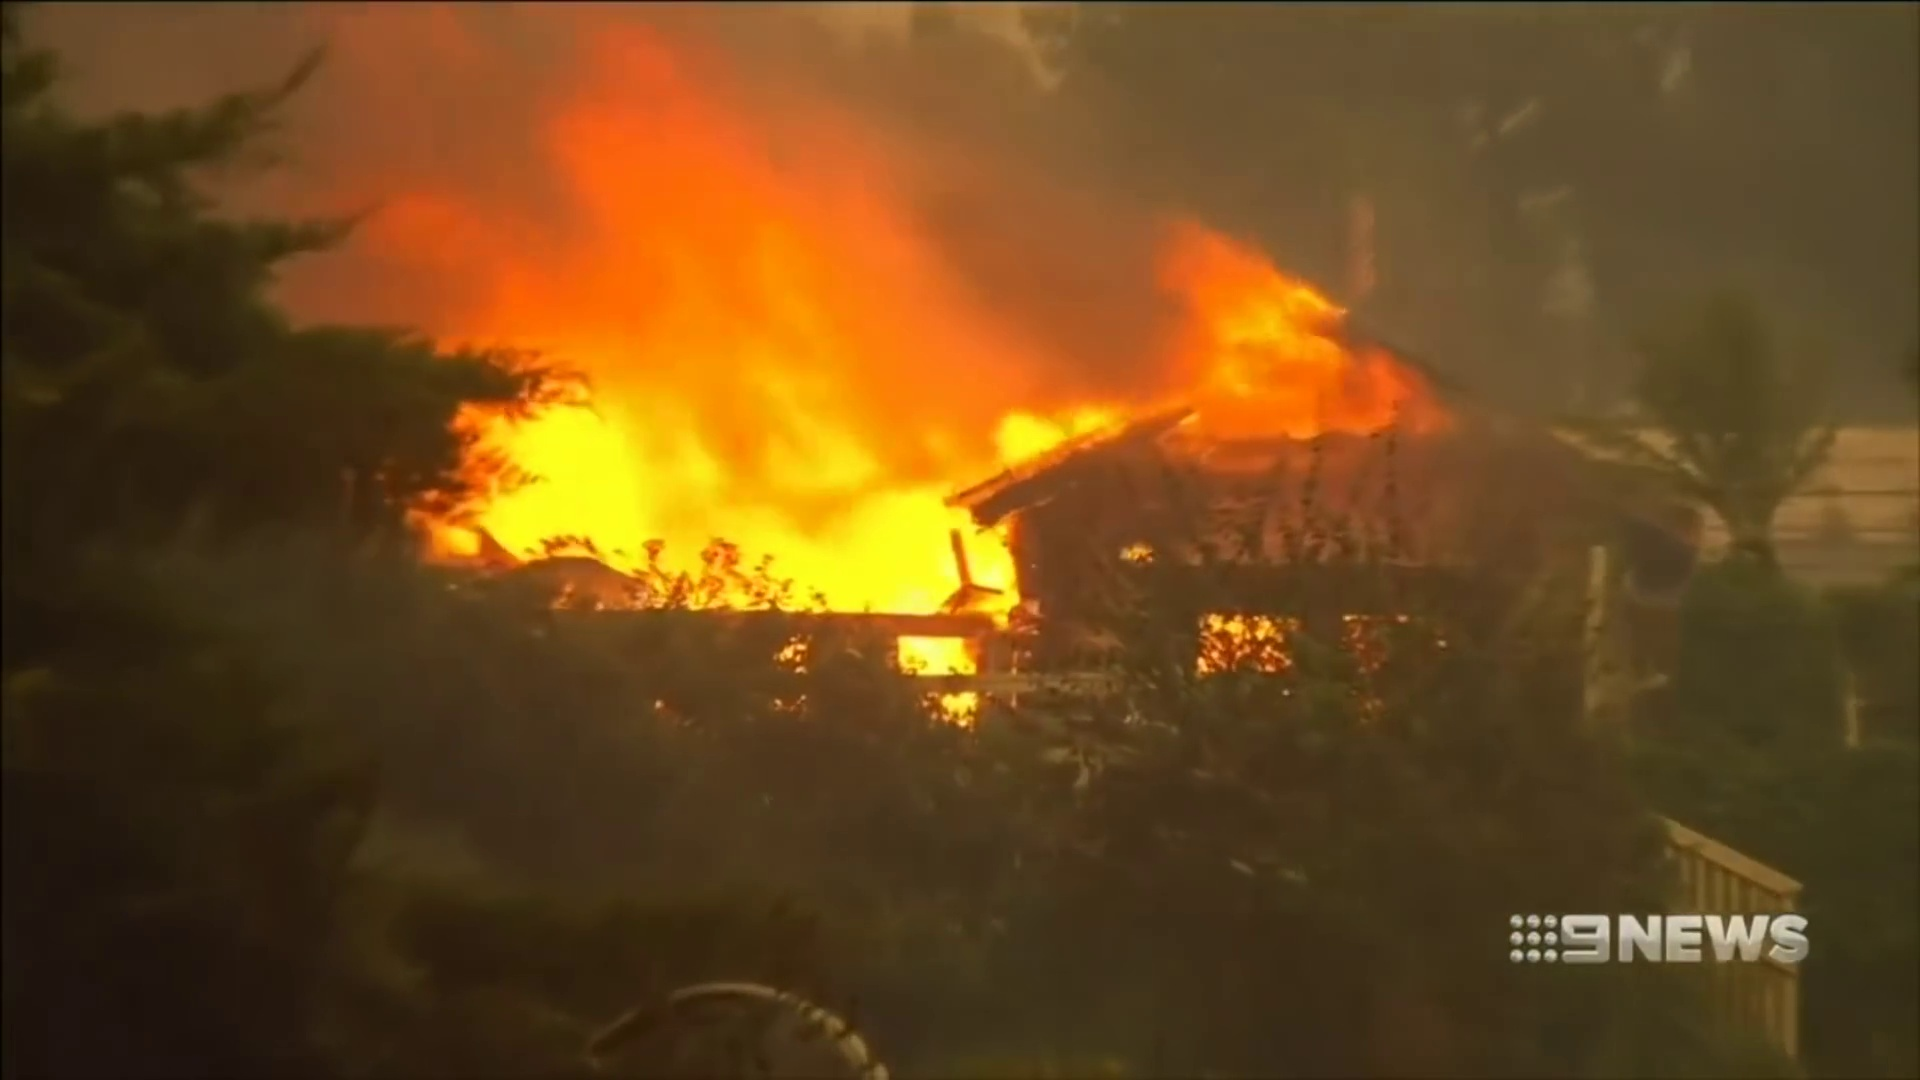fire: (439, 368, 1013, 611)
